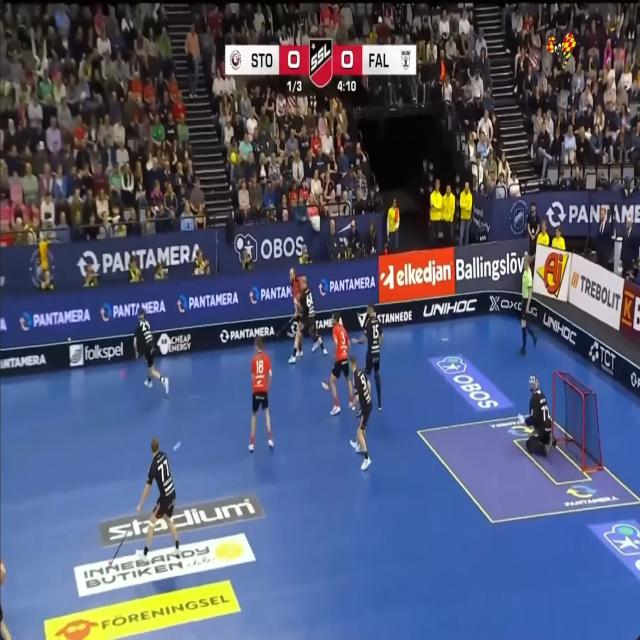player: (136, 437, 179, 556), (289, 276, 326, 363), (322, 312, 353, 414), (353, 304, 383, 409), (518, 374, 556, 455), (133, 308, 168, 392), (248, 336, 273, 452), (350, 355, 372, 469), (520, 253, 536, 355), (289, 268, 301, 325), (0, 610, 11, 639), (0, 559, 6, 585), (287, 330, 296, 338)
stick: (276, 314, 296, 336), (115, 534, 125, 551), (108, 551, 117, 566), (321, 380, 329, 389)
